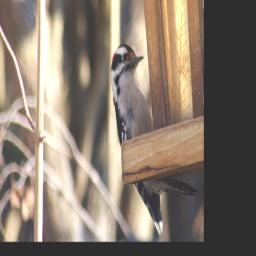Woodpecker: (110, 43, 199, 233)
